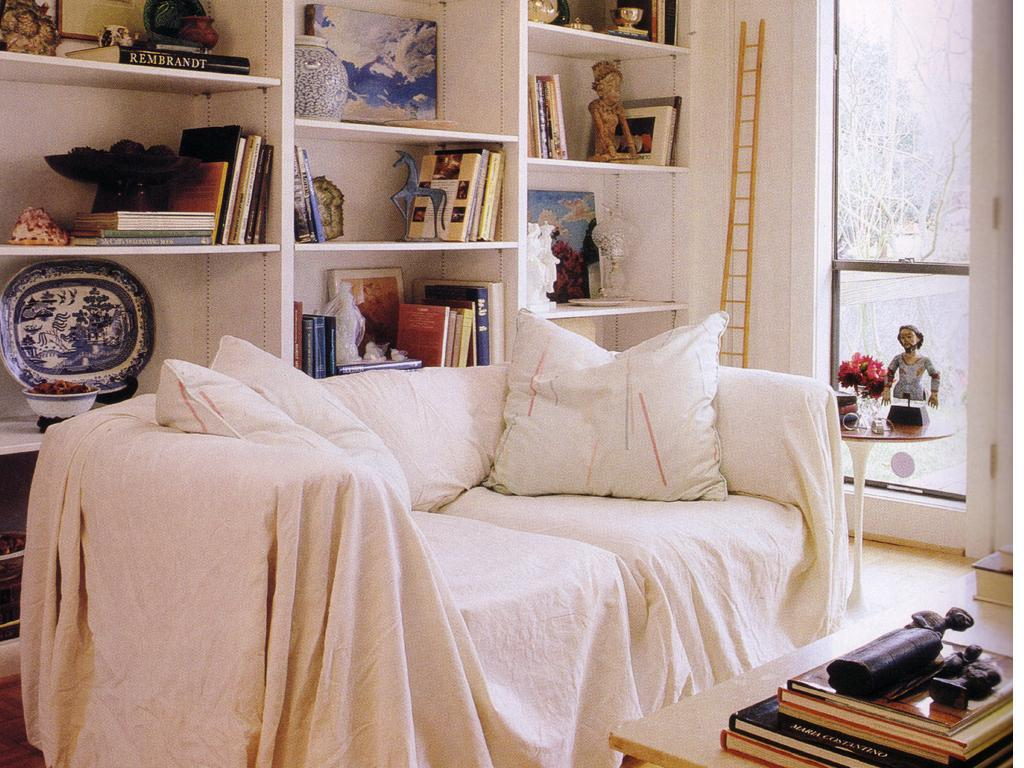Ventana: (827, 8, 972, 511)
